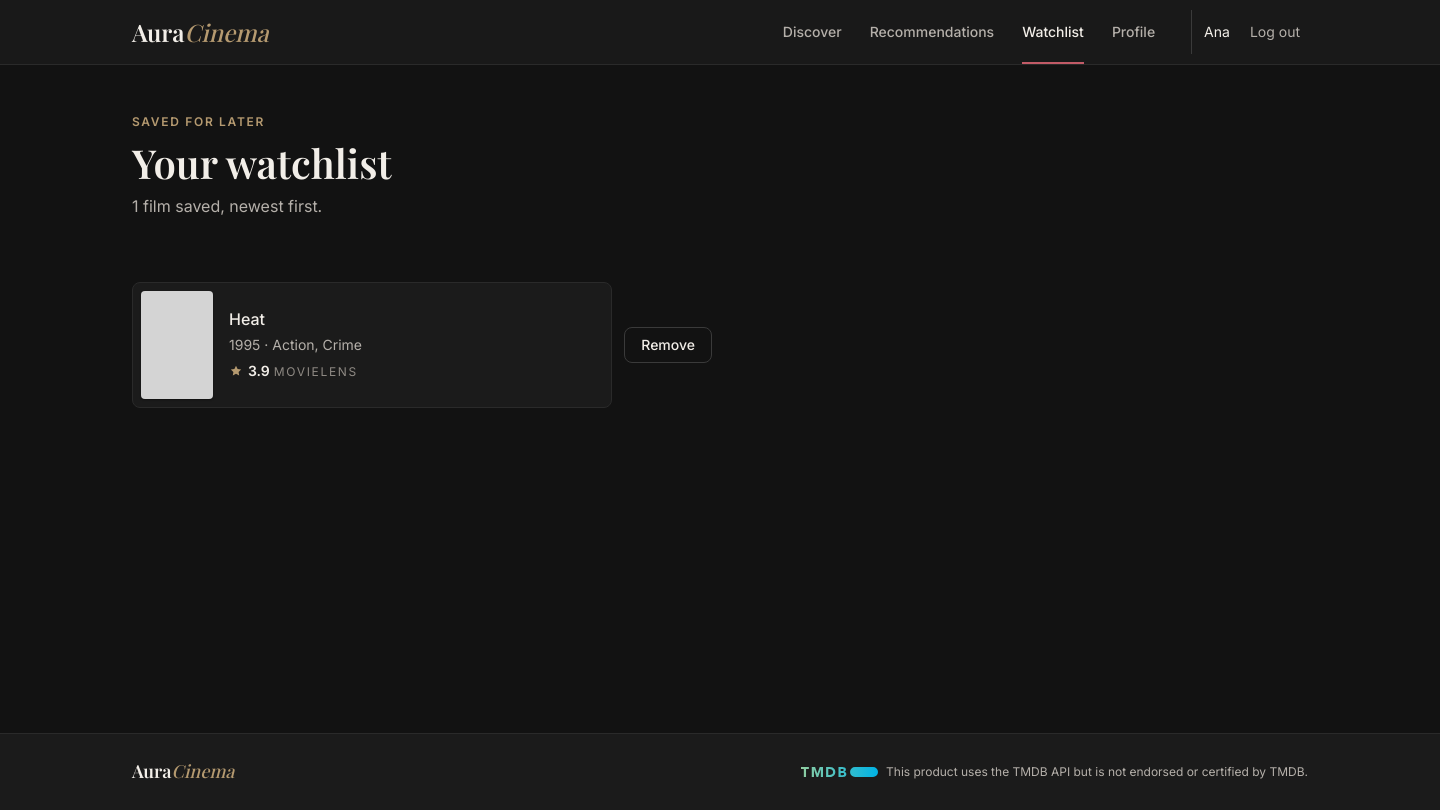
Test: Watchlist page › lists the user's saved films, removes one and then shows the empty state
The image size is (1440, 810).
Click the button with aria-label "Remove Heat from your watchlist".
click(668, 345)  # box [624,327,712,363]
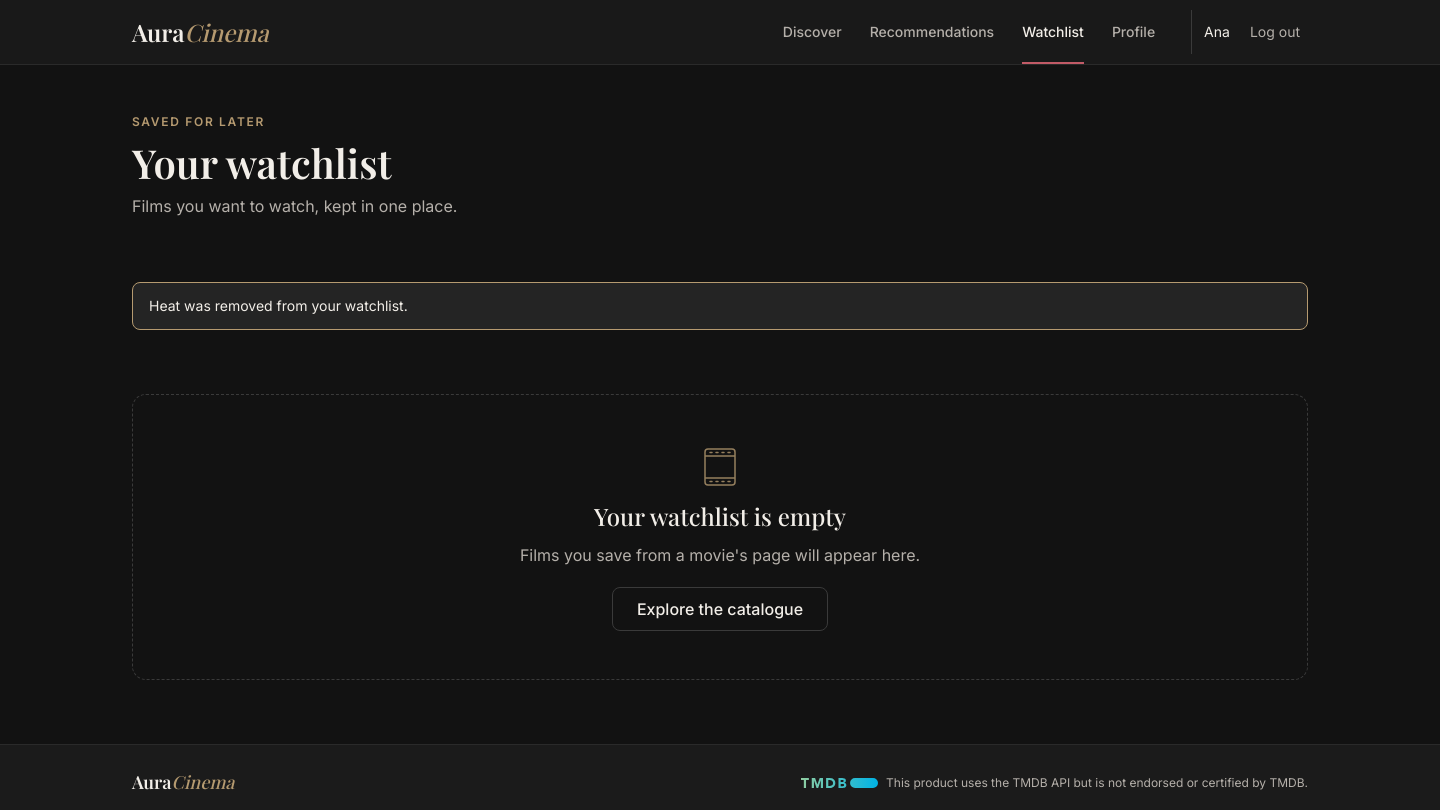
Expected: the heading "Your watchlist is empty" is shown, [594,503,846,531]
Expected: the message reads "Heat was removed from your watchlist.", [149,297,408,314]
